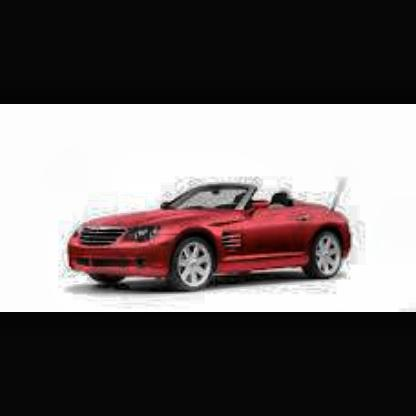Chrysler Crossfire Convertible 2008: (64, 182, 354, 296)
